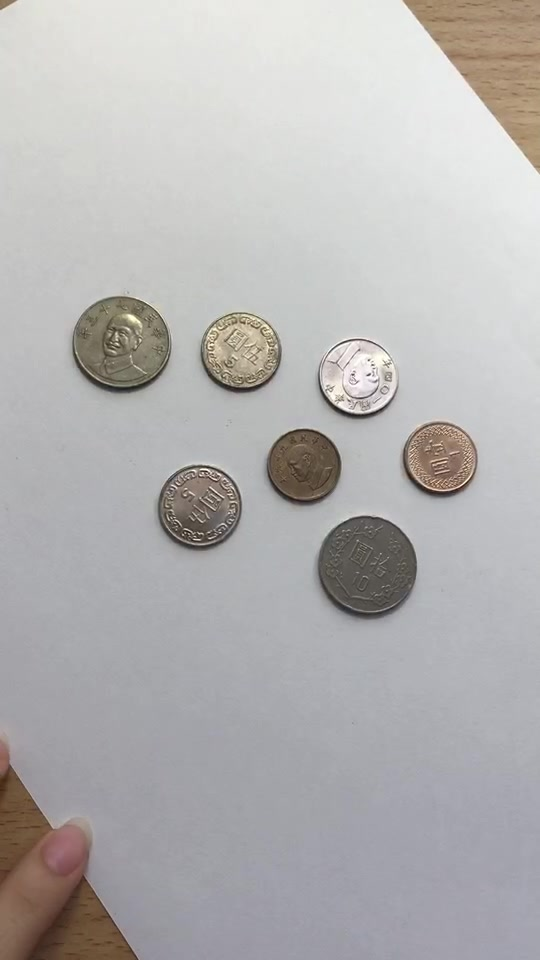1 dallar: (257, 417, 344, 509), (395, 416, 482, 508)
10 dallar: (61, 283, 185, 394), (304, 512, 428, 623)
5 dallar: (190, 301, 290, 402), (153, 452, 253, 553), (307, 318, 407, 419)
